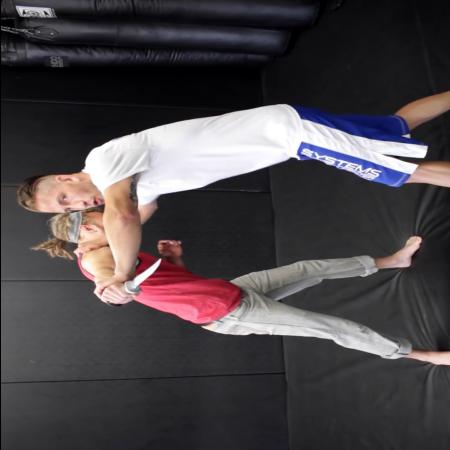long weapon: (100, 255, 169, 309)
